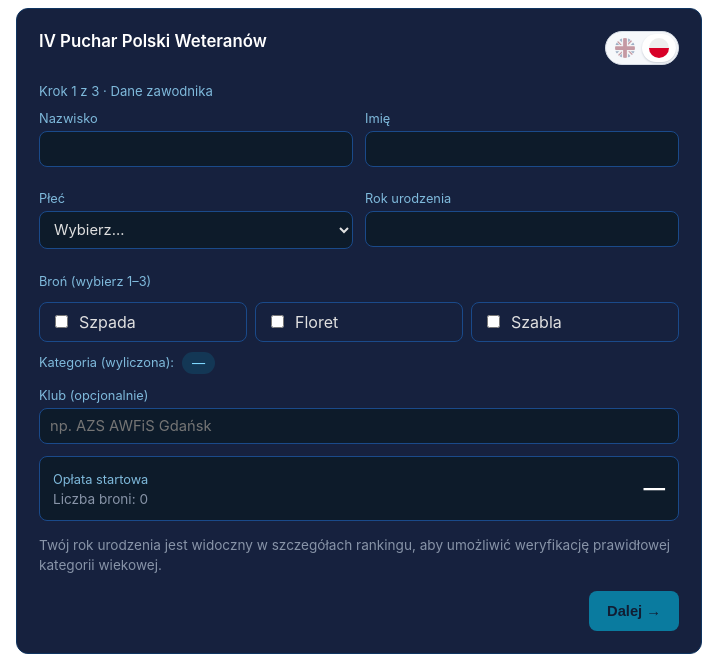
it: RegistrationForm — identity step (P2.3) › disables Continue until surname/firstName/birthYear/weapon are all filled
Expected: the text "IV Puchar Polski Weteranów" is shown, [39, 31, 267, 51]
Expected: the button with class "reg-continue" is disabled, [589, 591, 679, 631]
Step 1. Type "kowalski" into the field named "surname" → [196, 149], box [39, 131, 353, 167]
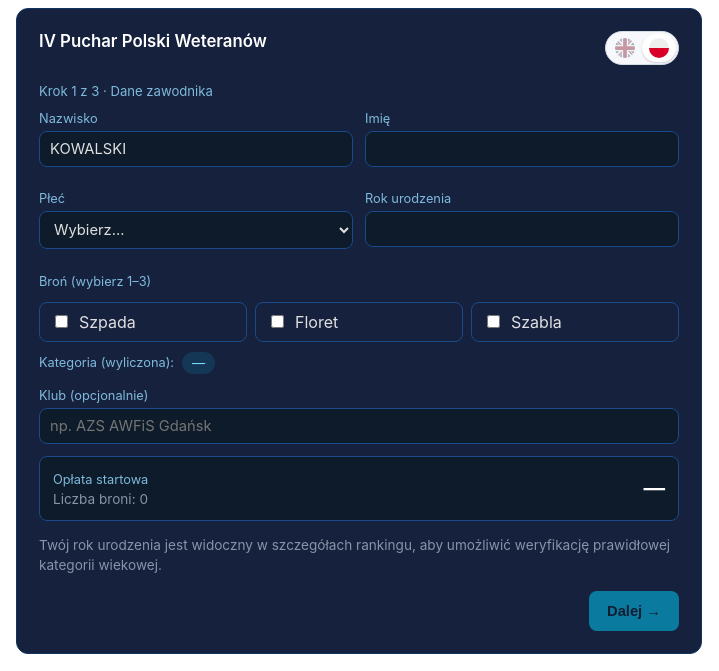
Step 2. Type "Jan" into the field named "firstName" → [522, 149], box [365, 131, 679, 167]
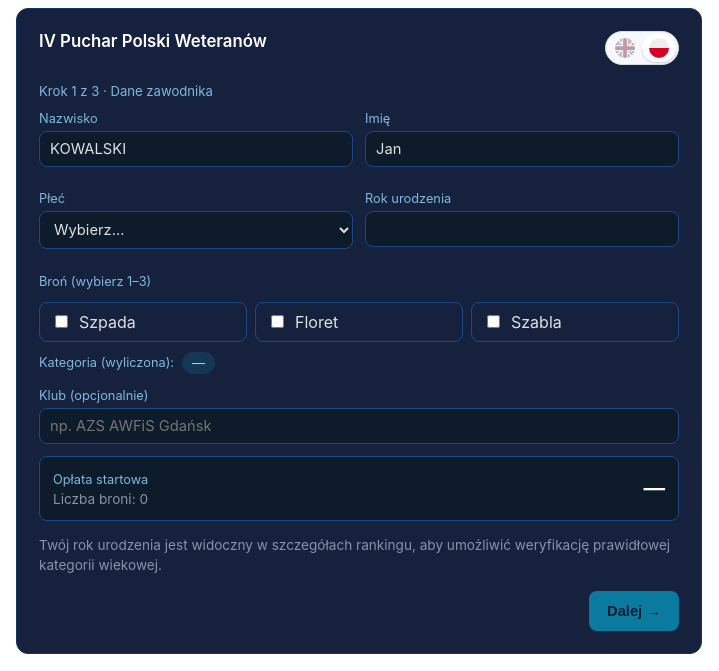
Step 3. Type "1970" into the number field named "birthYear" → [522, 229], box [365, 211, 679, 247]
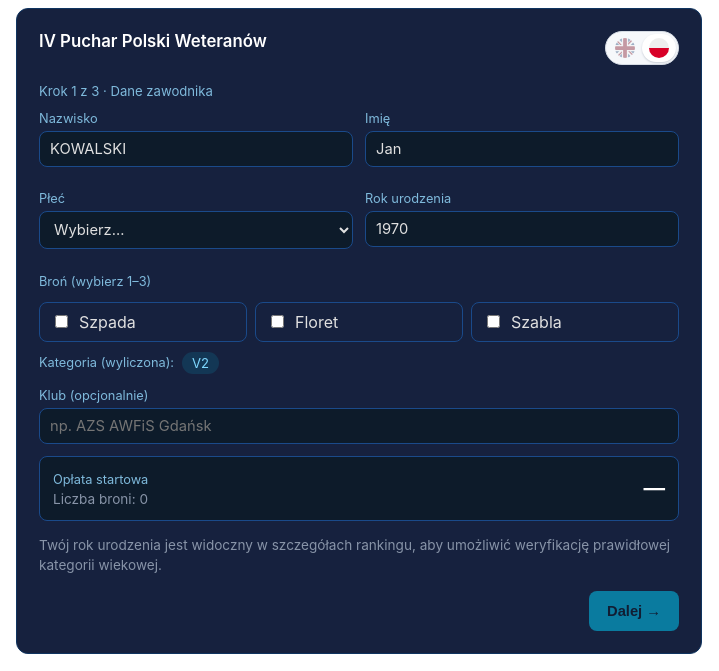
Step 4. Select "Mężczyzna (M)" in the dropdown named "gender" → [196, 230], box [39, 211, 353, 249]
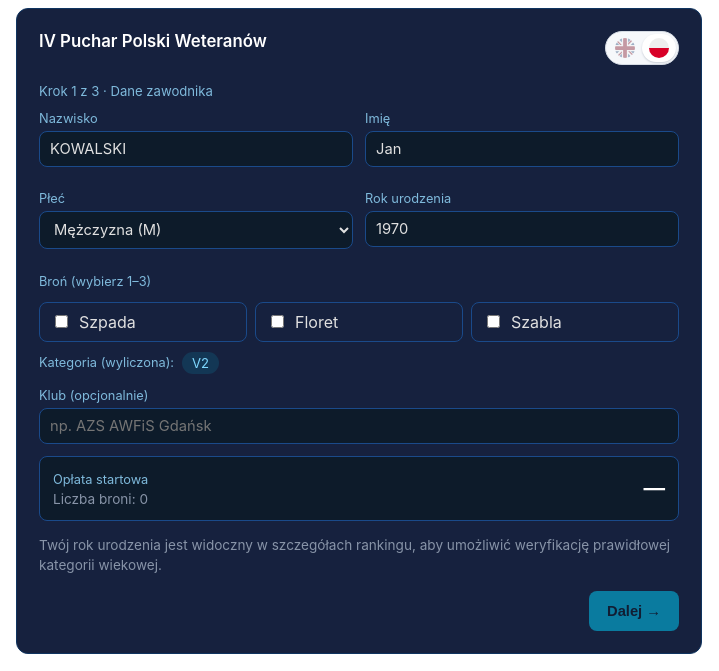
Step 5. Click the checkbox labelled "Szpada" → [62, 322], box [55, 315, 68, 328]
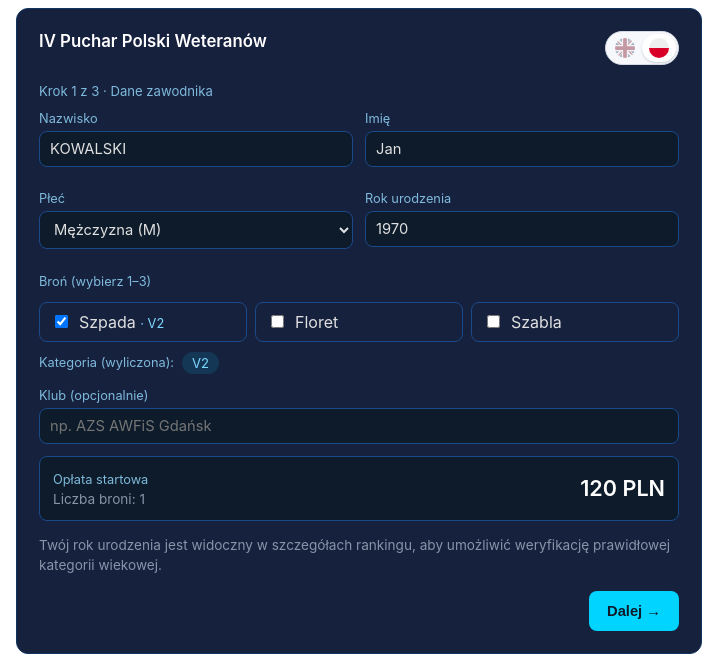
Now the button with class "reg-continue" is enabled, box [589, 591, 679, 631]
